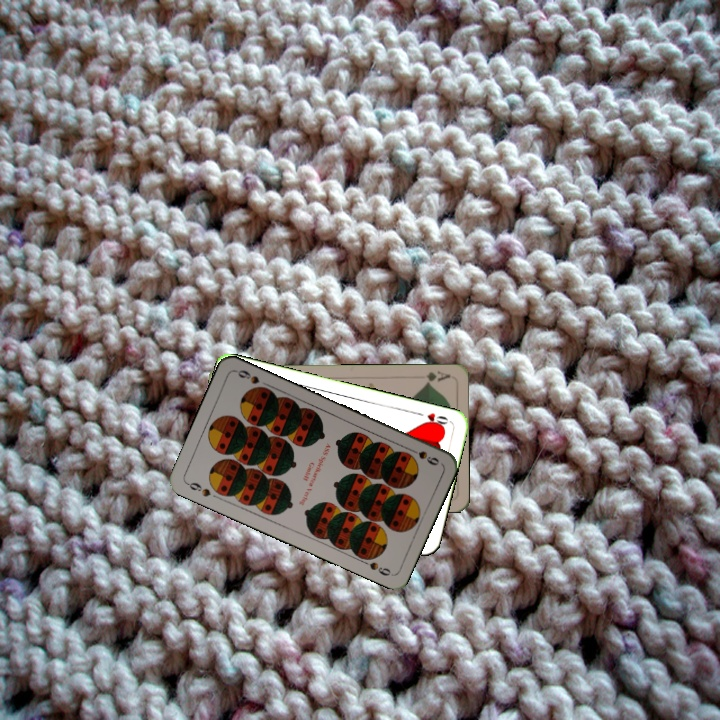GA: (421, 367, 452, 387)
HO: (413, 408, 451, 430)
S9: (404, 444, 442, 468), (182, 478, 213, 499)
